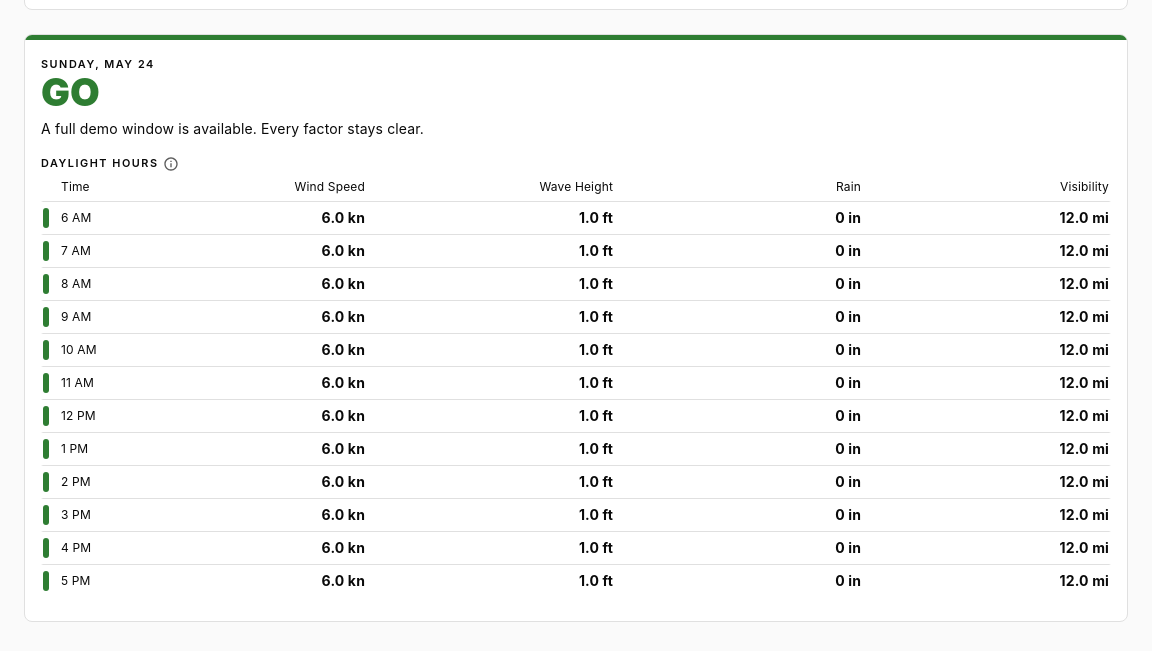
Test: pinning multiple windows › unpinning one card leaves the others
The width and height of the screenshot is (1152, 651).
(page scrolled)
Click the button with aria-label "pin a demo window around 10 AM": (576, 349) x1=41 y1=333 x2=1111 y2=366
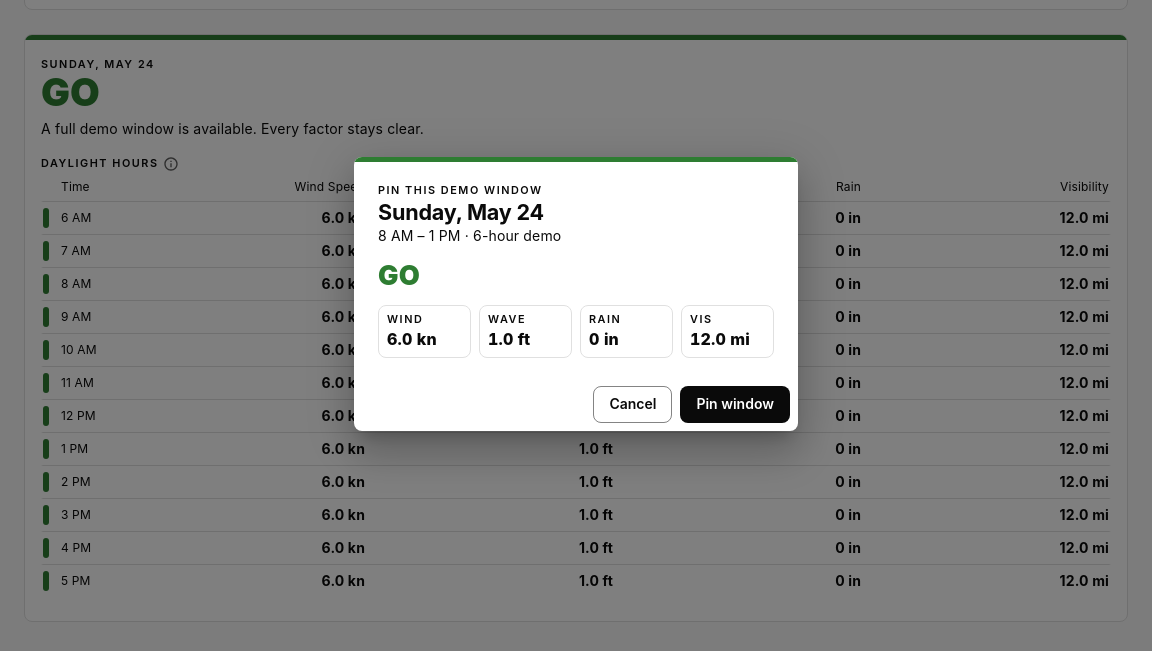
Click the button "Pin window": (735, 404) x1=680 y1=386 x2=790 y2=423
(page scrolled)
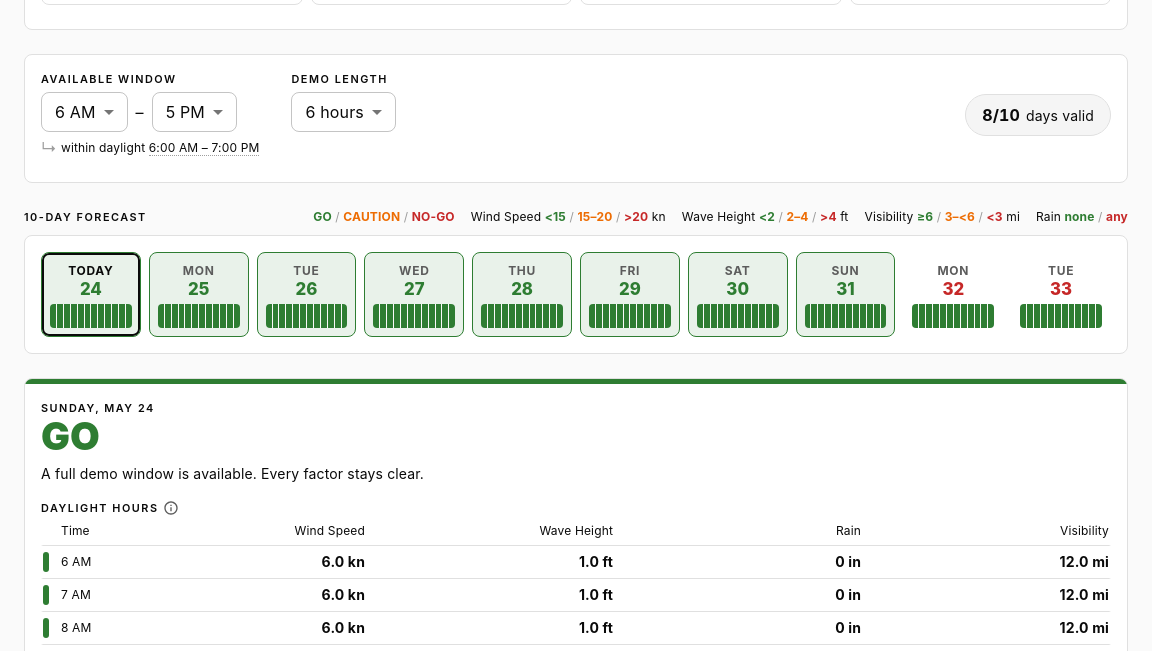
Click the button "MON 25": (199, 294) x1=149 y1=252 x2=249 y2=337
(page scrolled)
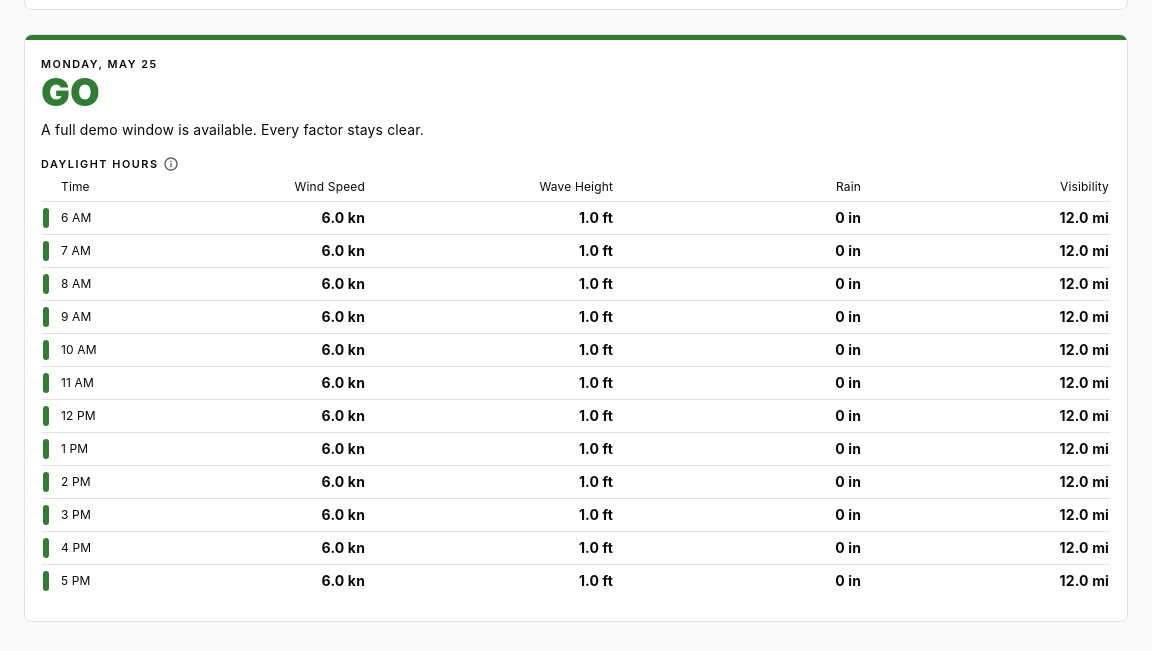
Click the button with aria-label "pin a demo window around 10 AM": (576, 350) x1=41 y1=333 x2=1111 y2=366
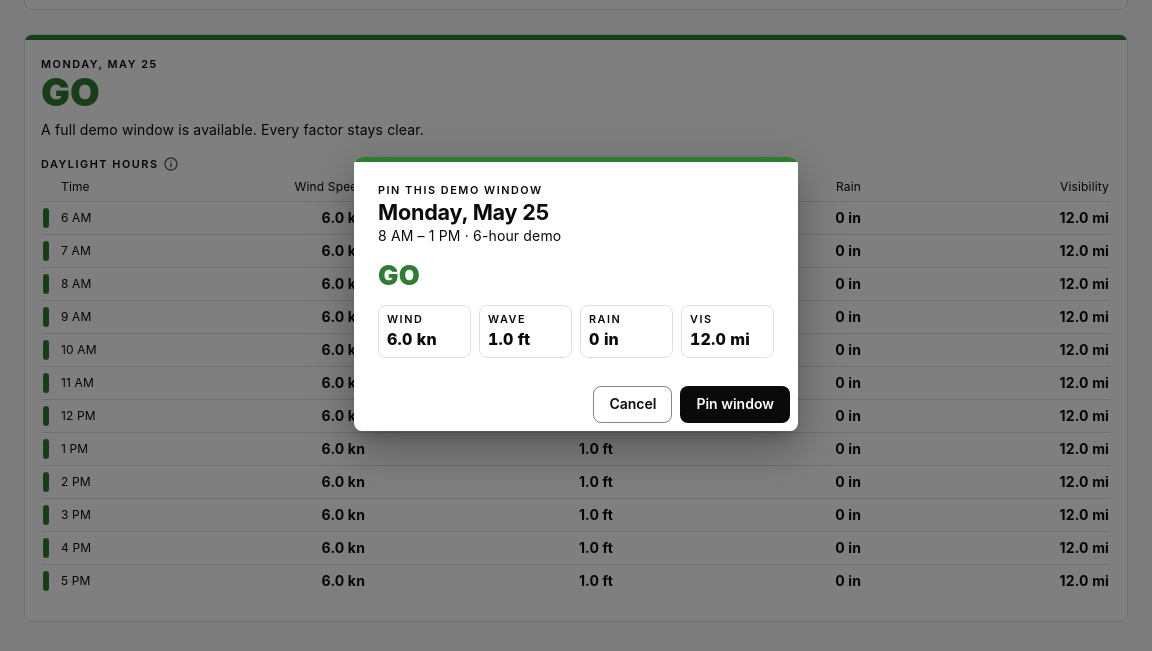
Click the button "Pin window": (735, 404) x1=680 y1=386 x2=790 y2=423
(page scrolled)
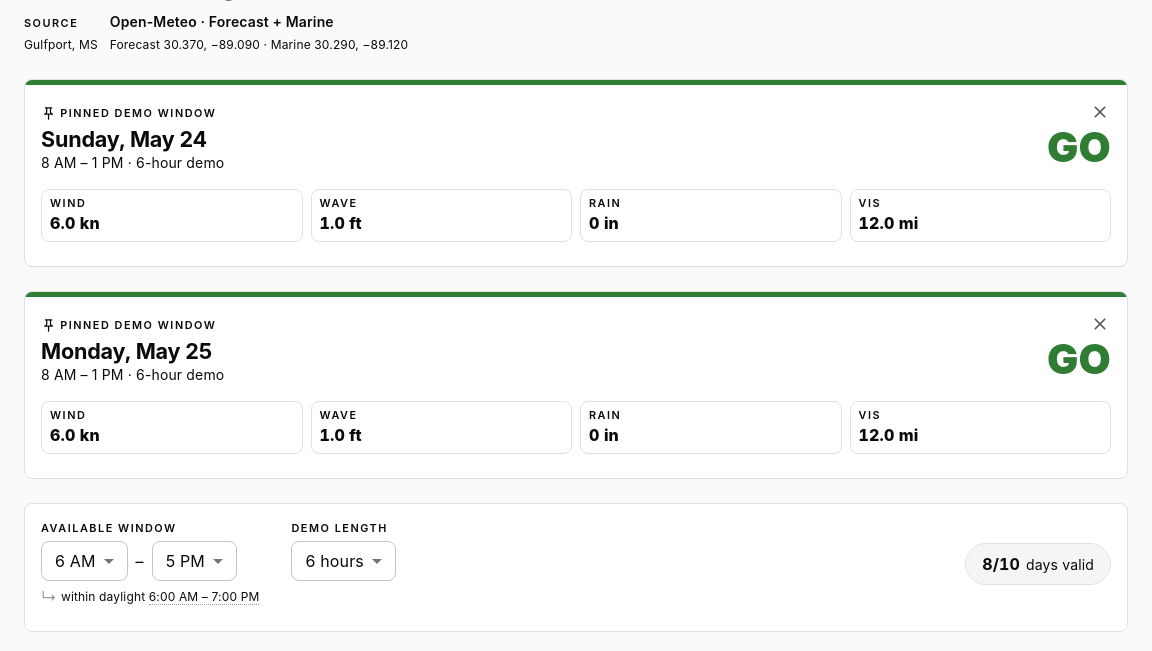
Result: the number of elements "Pinned demo window" is 2 at x1=24 y1=79 x2=1128 y2=267; x1=24 y1=291 x2=1128 y2=479
Click the 1st button named "unpin": (1100, 112) x1=1085 y1=97 x2=1115 y2=127
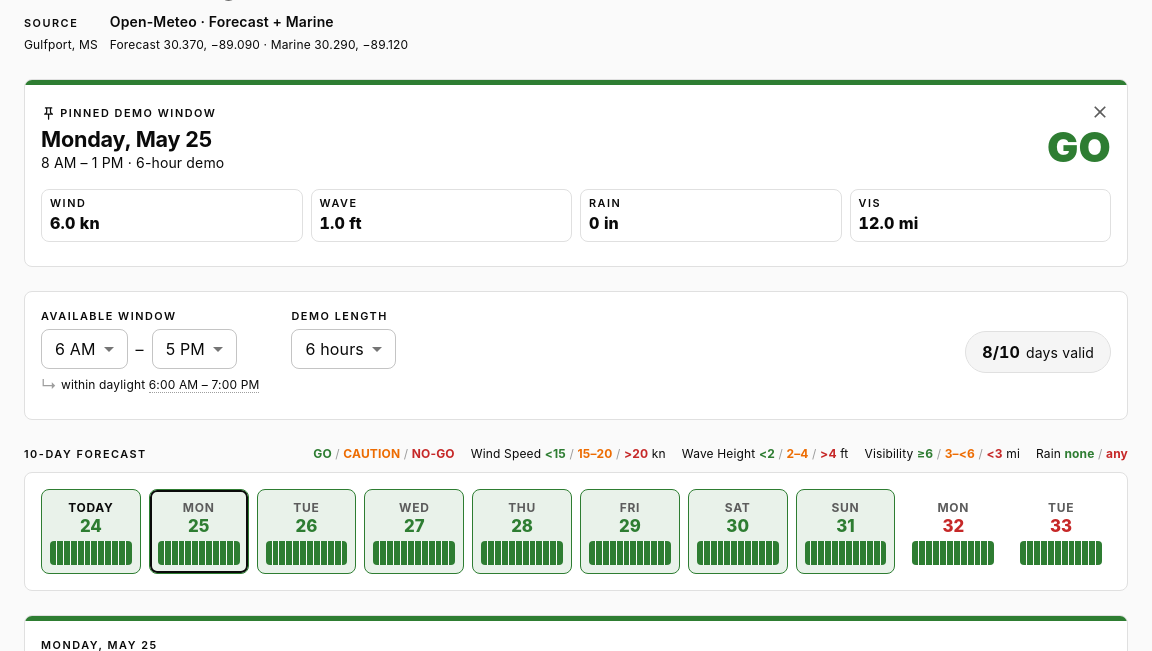
Result: the number of elements "Pinned demo window" is 1 at x1=24 y1=79 x2=1128 y2=267
Result: the text "Sunday," is gone
